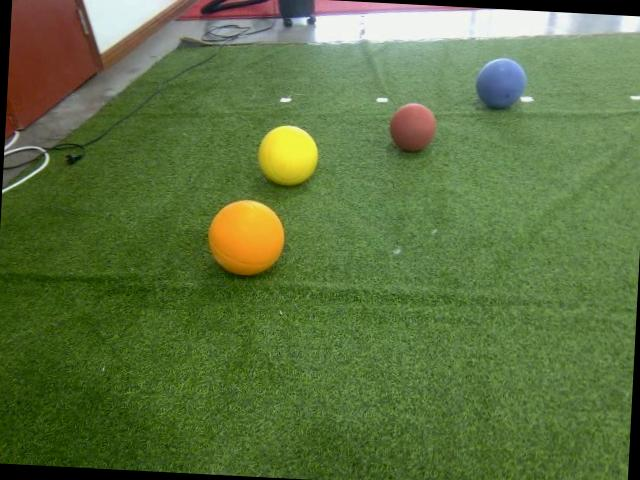blue_ball: (477, 57, 527, 109)
orange_ball: (207, 198, 287, 278)
red_ball: (388, 101, 438, 153)
yellow_ball: (258, 125, 320, 188)
